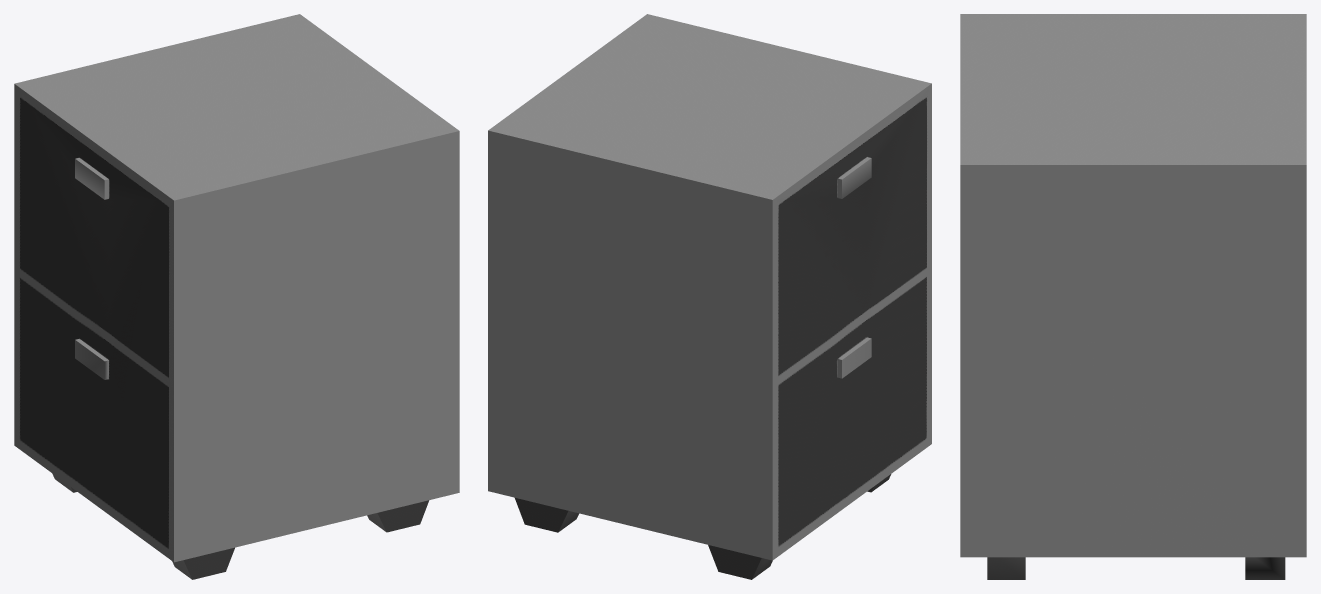
The model's file is Cabinet_01_snaps001.fbx.
The picture shows the model from 3 angles, left to right: view 1: azimuth 30°, elevation 25°; view 2: azimuth 150°, elevation 25°; view 3: azimuth 270°, elevation 25°; orthographic projection. The views are drawn at different scales.
Visible parts, largest first — view 1: Cabinet_01_snaps001; view 2: Cabinet_01_snaps001; view 3: Cabinet_01_snaps001.
Boxes of the visible parts, x1,y1,x2,y2 form: Cabinet_01_snaps001: [14, 14, 459, 579]; Cabinet_01_snaps001: [488, 14, 931, 579]; Cabinet_01_snaps001: [960, 14, 1306, 579].
Size of the model in its own units: 0.5247 by 0.6846 by 0.5005.
